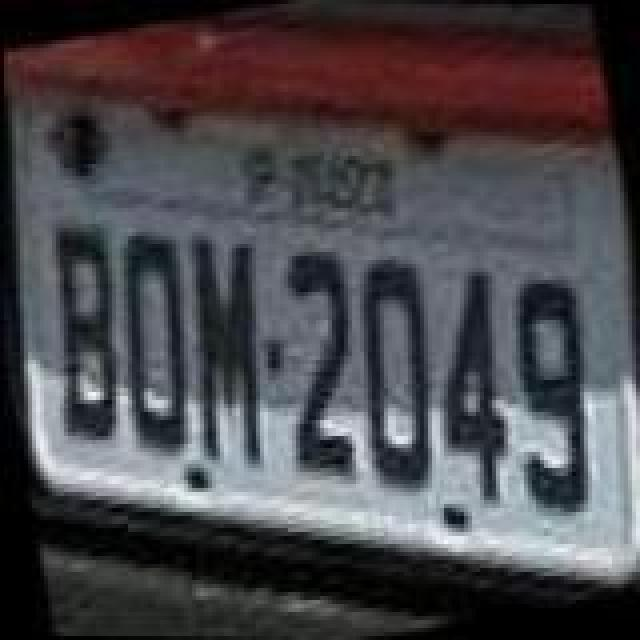2: (256, 236, 388, 484)
4: (412, 264, 532, 508)
9: (484, 270, 620, 522)
B: (24, 220, 148, 452)
M: (158, 224, 294, 476)
O: (334, 254, 462, 502), (94, 224, 222, 460)
